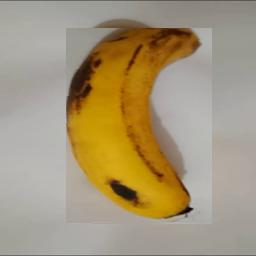Banana Semifresh: (66, 29, 212, 225)
